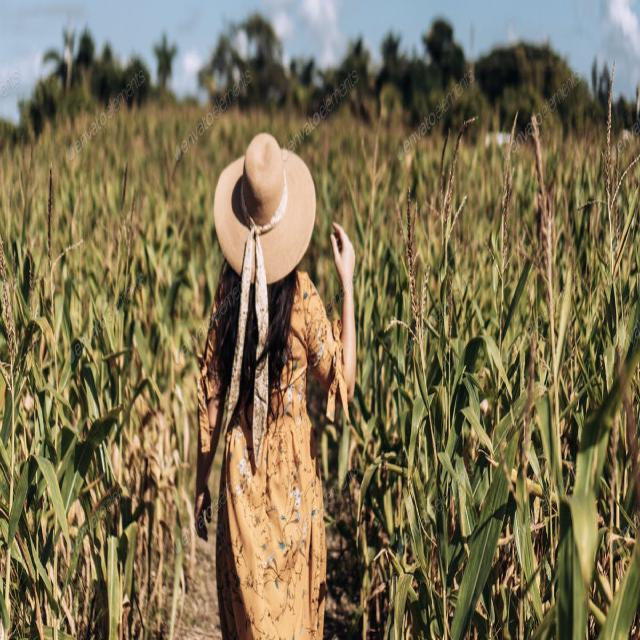hat: (212, 136, 321, 306)
